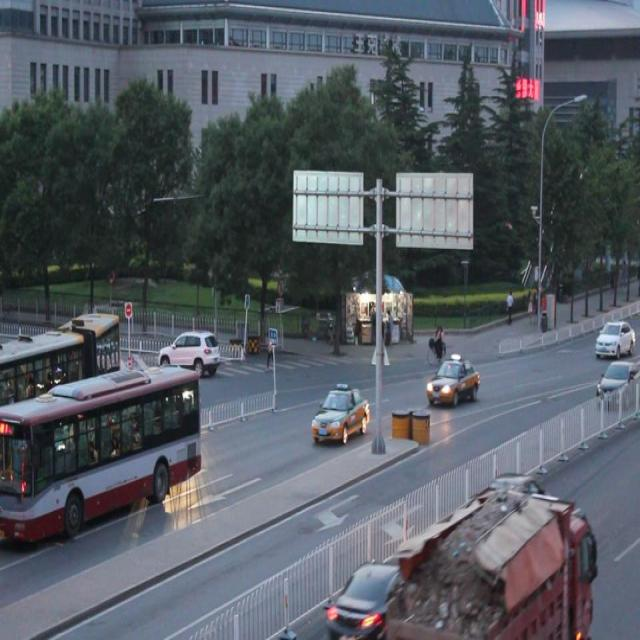bus: (385, 487, 595, 640)
car: (326, 557, 408, 640), (310, 380, 370, 446), (157, 329, 220, 375), (425, 352, 480, 404), (138, 359, 190, 413), (595, 357, 640, 398)
van: (1, 367, 201, 543), (1, 310, 120, 420)
